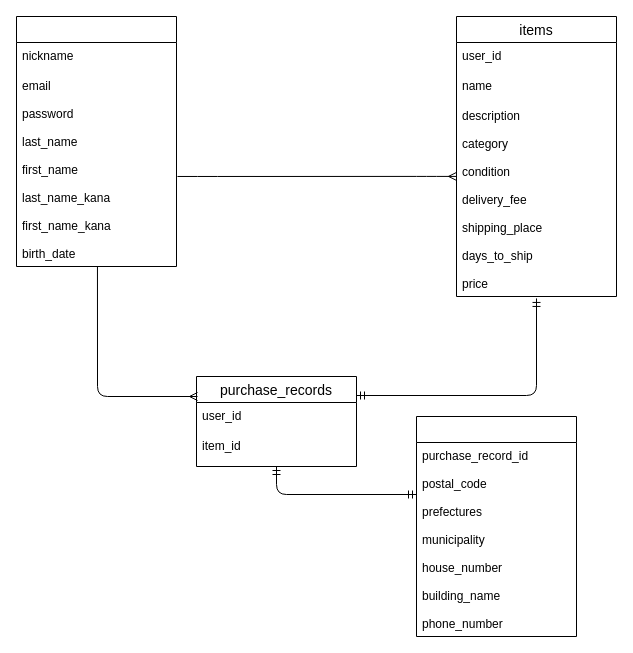
This 633x653 diagram has some shape labels left out. The box of each missing label's shape, as (x1, y1, x2, y2) in pixels:
addresses: (416, 416, 576, 636)
users: (16, 16, 176, 266)
